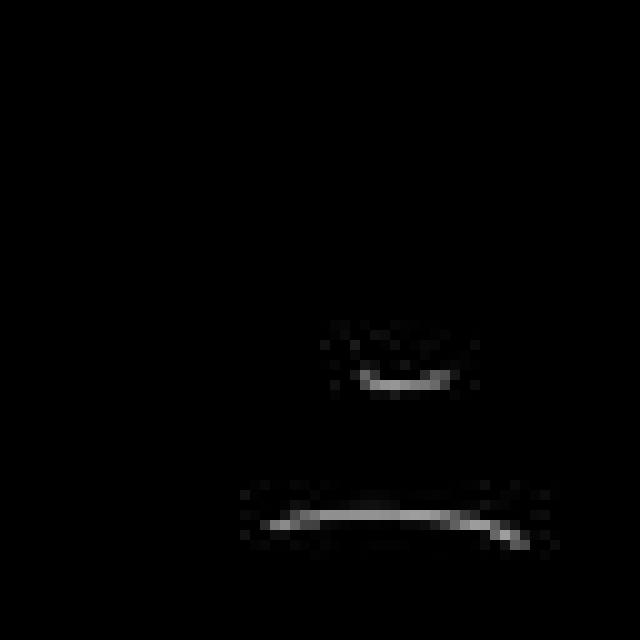2 -two-: (256, 349, 542, 571)
